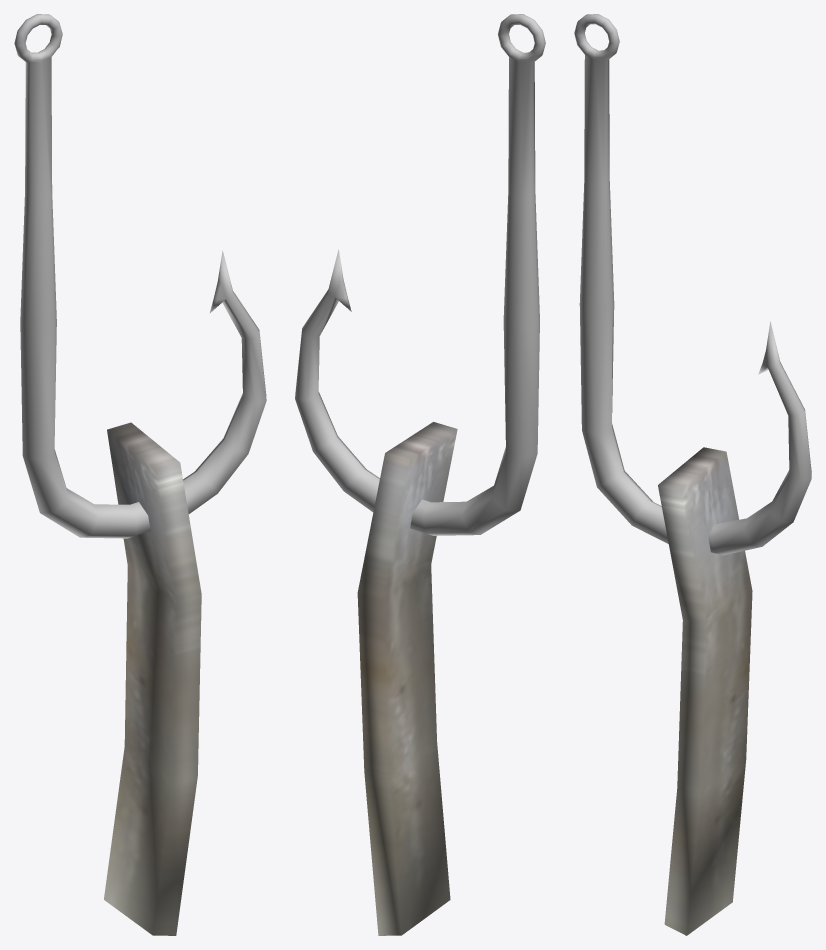
The model's file is Bait_SquidSlices.fbx.
3 renders of one model, left to right at view 1: azimuth 30°, elevation 25°; view 2: azimuth 150°, elevation 25°; view 3: azimuth 330°, elevation 25°, orthographic. The views are drawn at different scales.
Parts seen in each view (by area): view 1: Bait_SquidSlices; view 2: Bait_SquidSlices; view 3: Bait_SquidSlices.
Boxes of the visible parts, <box> form: Bait_SquidSlices: <box>14,14,266,935</box>; Bait_SquidSlices: <box>295,14,545,935</box>; Bait_SquidSlices: <box>574,14,811,935</box>.
Bounding box in the file's own units: 0.2116 × 0.752 × 0.0789.
